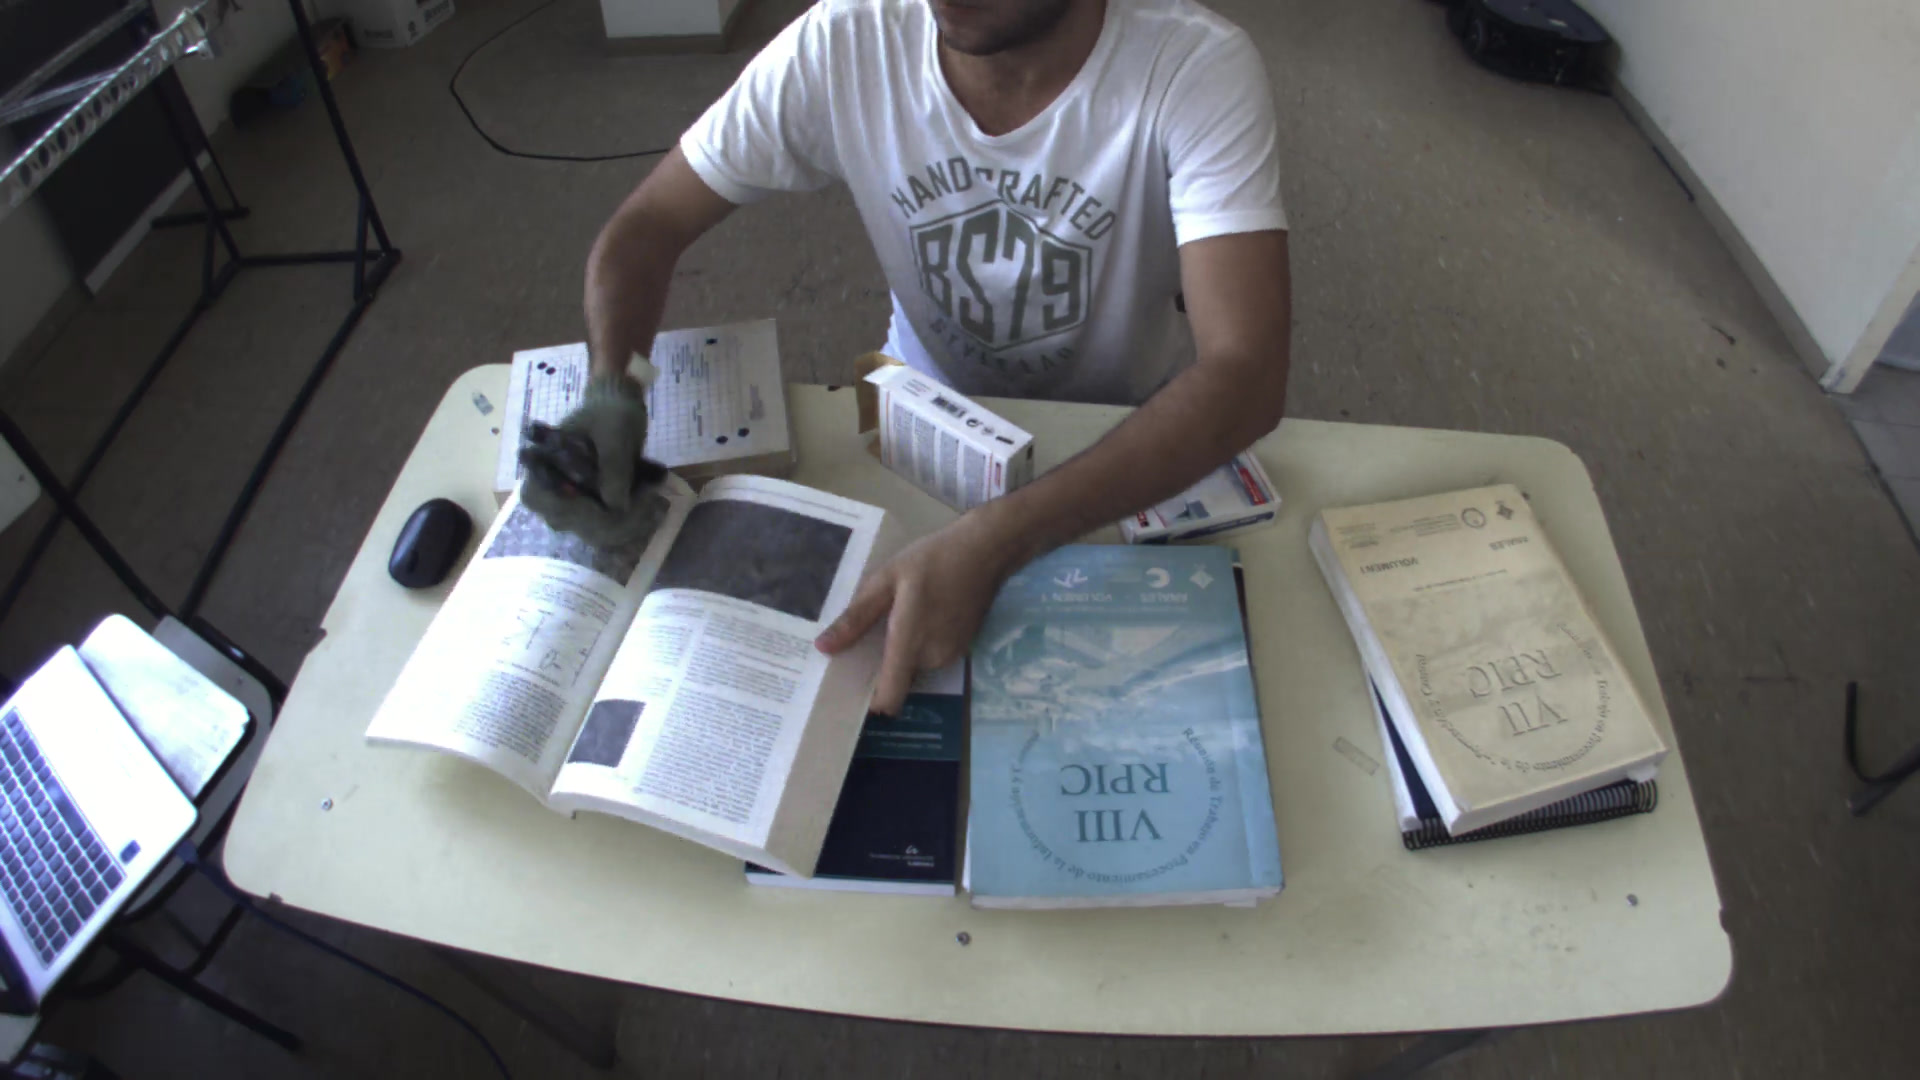hand: (808, 534, 997, 723), (514, 363, 662, 512)
